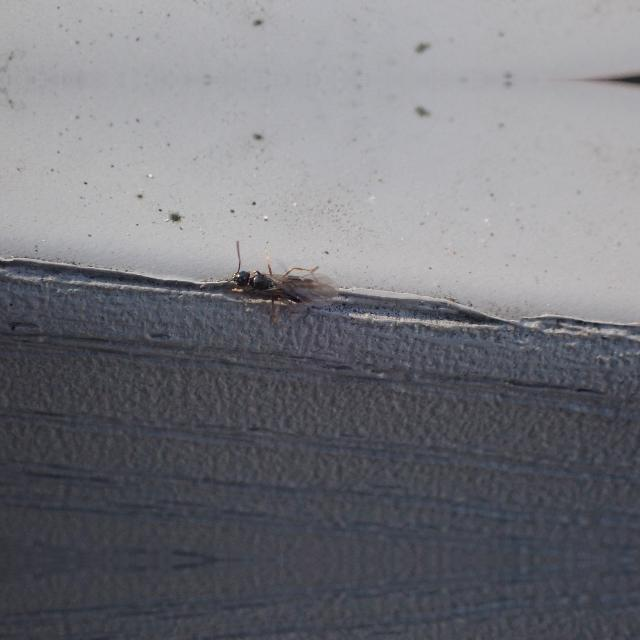Tapinoma: (214, 249, 350, 319)
